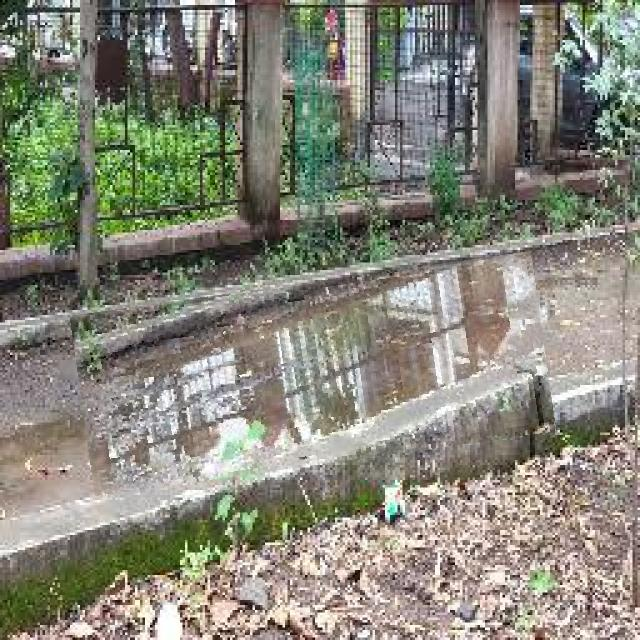puddle: (76, 268, 552, 482)
